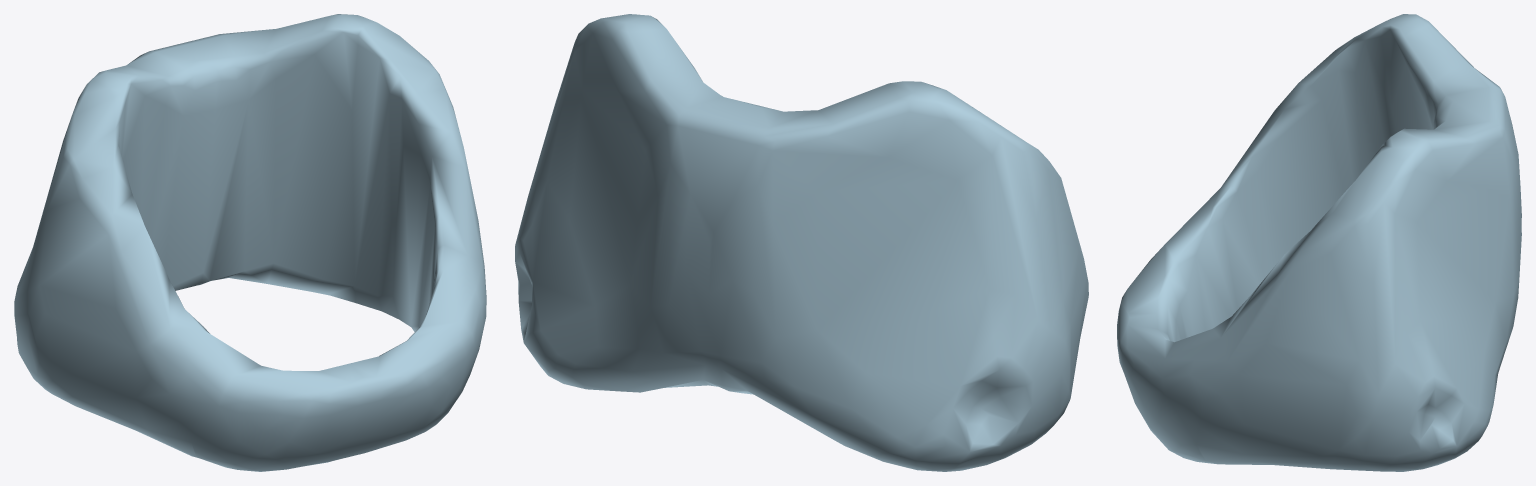
The model's file is esqueleto-cricoid-cartilage.glb.
3 renders of one model, left to right at view 1: azimuth 30°, elevation 25°; view 2: azimuth 150°, elevation 25°; view 3: azimuth 270°, elevation 25°, orthographic. The views are drawn at different scales.
Parts seen in each view (by area): view 1: Cricoid cartilage; view 2: Cricoid cartilage; view 3: Cricoid cartilage.
Part boxes in pixels (<box>): Cricoid cartilage: <box>14,14,486,471</box>; Cricoid cartilage: <box>515,14,1088,471</box>; Cricoid cartilage: <box>1117,14,1521,471</box>.
Bounding box in the file's own units: 0.0243 × 0.0175 × 0.0189.
